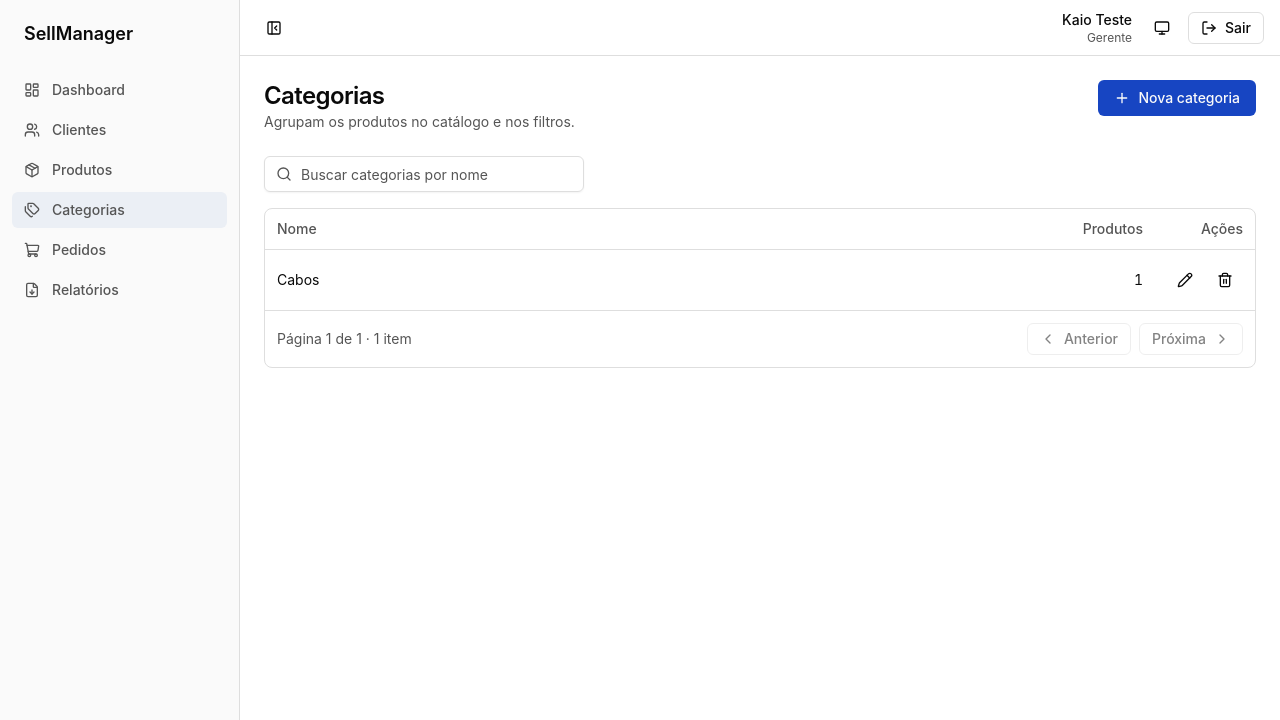
Test: Categorias › explica por que não exclui categoria com produtos
Step 1. Click the button named "Excluir Cabos" → coordinates (1225, 280), box [1207, 262, 1243, 298]
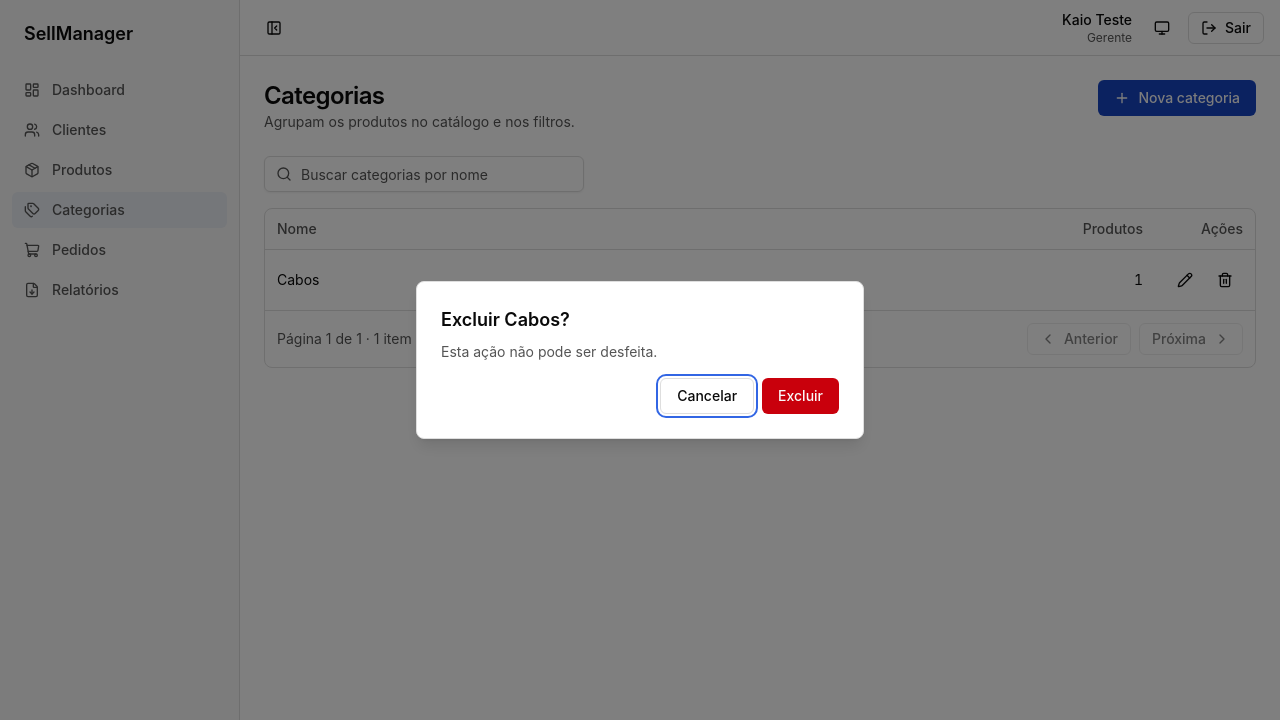
Step 2. Click the button "Excluir" → coordinates (801, 396), box [762, 378, 839, 414]
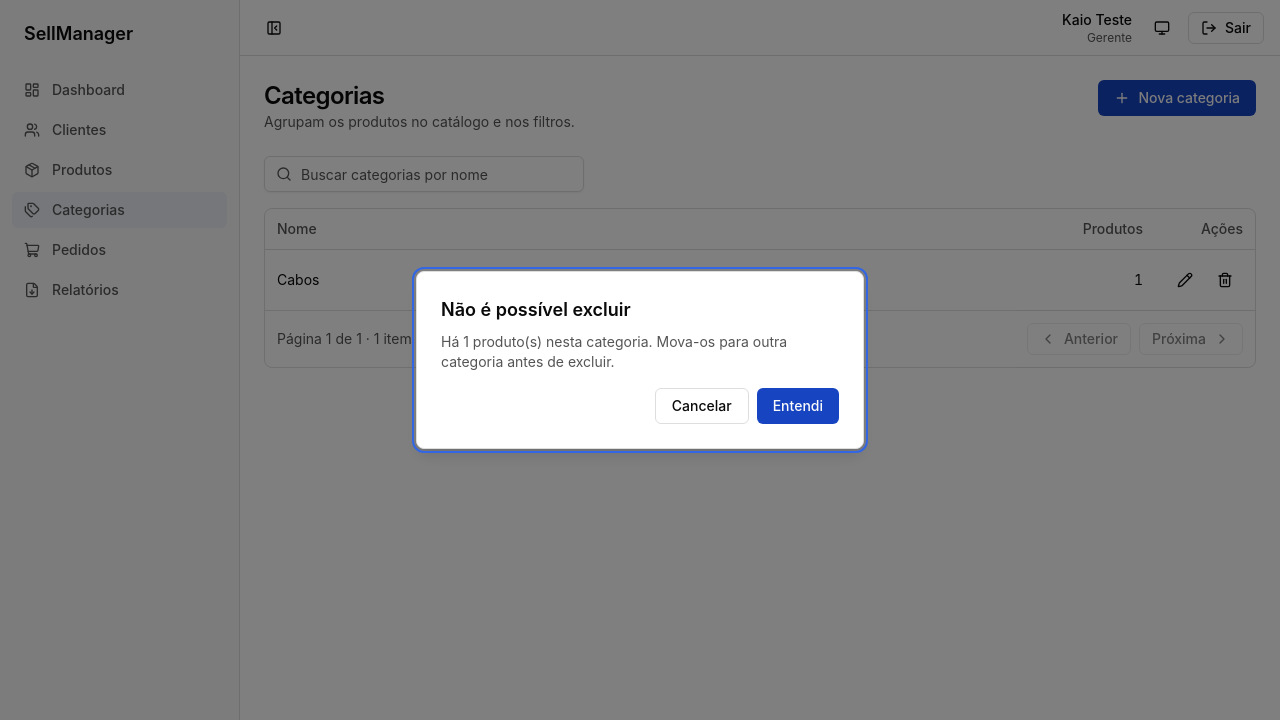
Check: the text "Há 1 produto(s) nesta categoria" is shown, box [441, 333, 787, 370]
